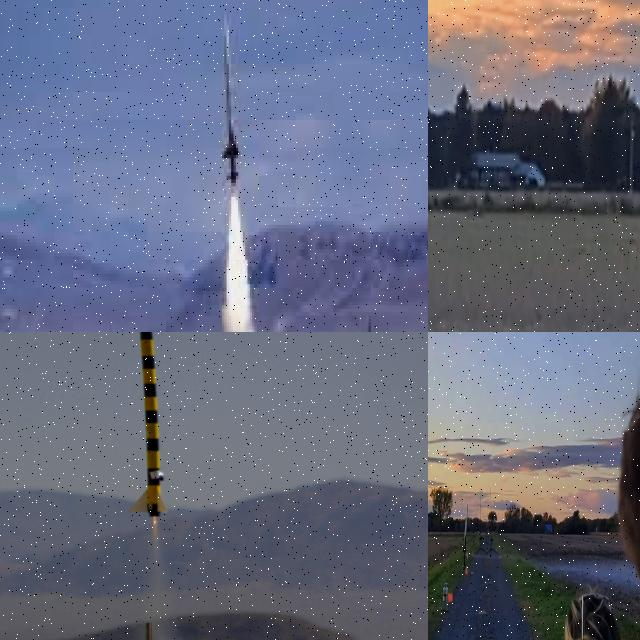Rocket: (126, 332, 169, 517), (214, 13, 243, 192), (463, 512, 467, 554)
